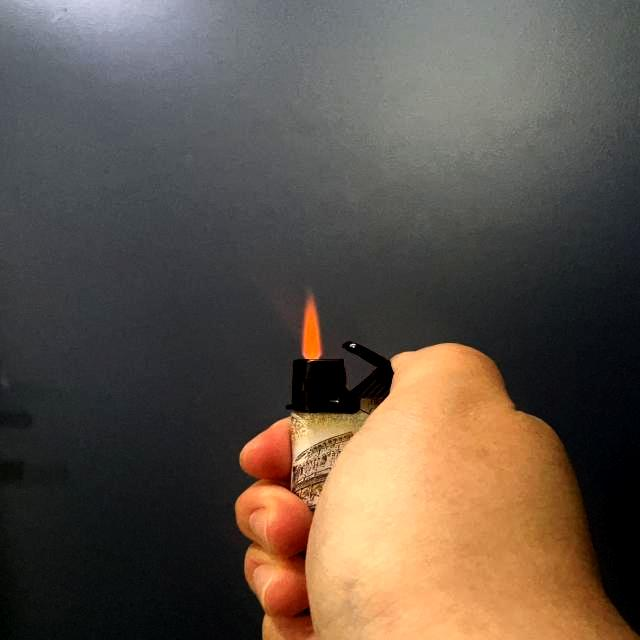fire: (295, 286, 325, 362)
